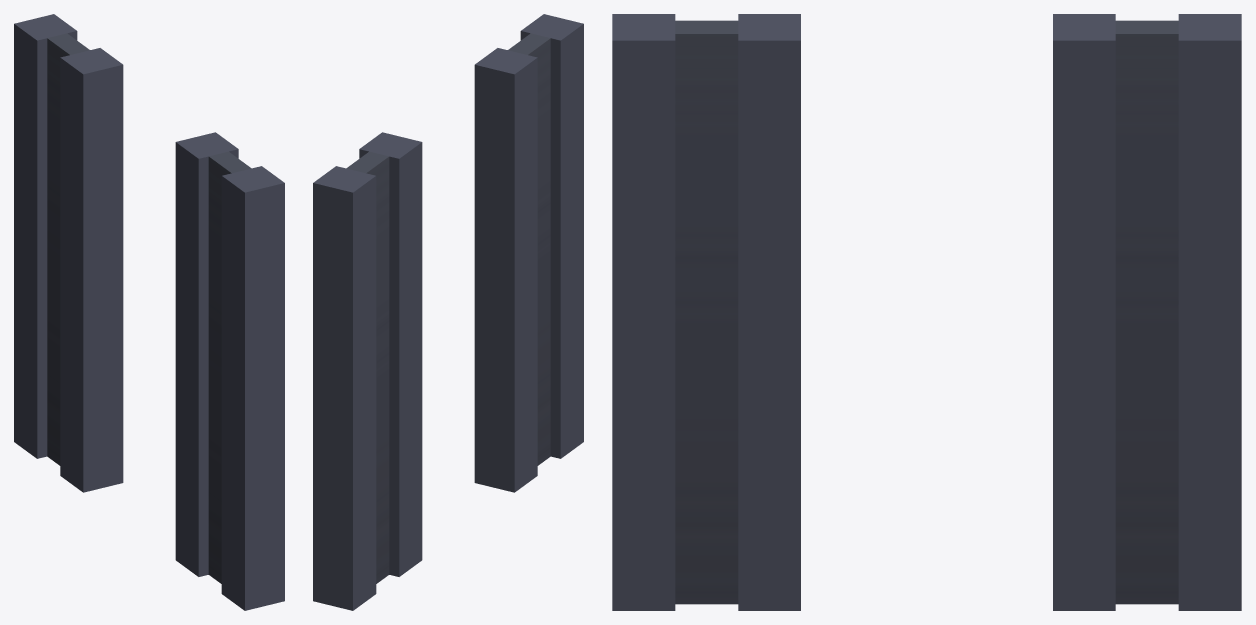
The model's file is wall-doorway-base.glb.
The picture shows the model from 3 angles, left to right: view 1: azimuth 30°, elevation 25°; view 2: azimuth 150°, elevation 25°; view 3: azimuth 270°, elevation 25°; orthographic projection. The views are drawn at different scales.
Parts seen in each view (by area): view 1: wall-doorway-base; view 2: wall-doorway-base; view 3: wall-doorway-base.
Boxes of the visible parts, x1,y1,x2,y2 form: wall-doorway-base: (14,14,284,610); wall-doorway-base: (313,14,583,610); wall-doorway-base: (612,14,1241,610).
Bounding box in the file's own units: 0.1 × 1 × 1.
1 material, 1 textured.
